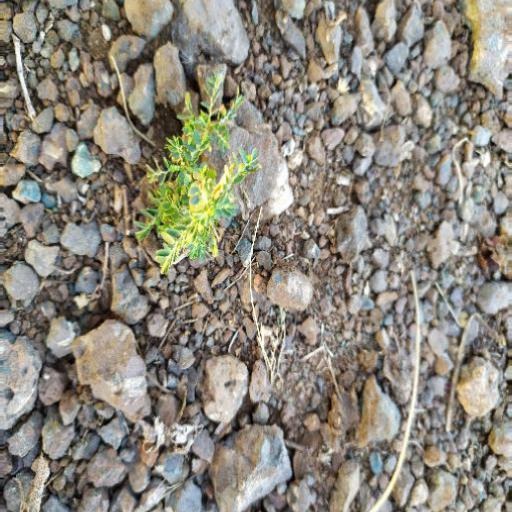weed: (104, 88, 272, 264)
